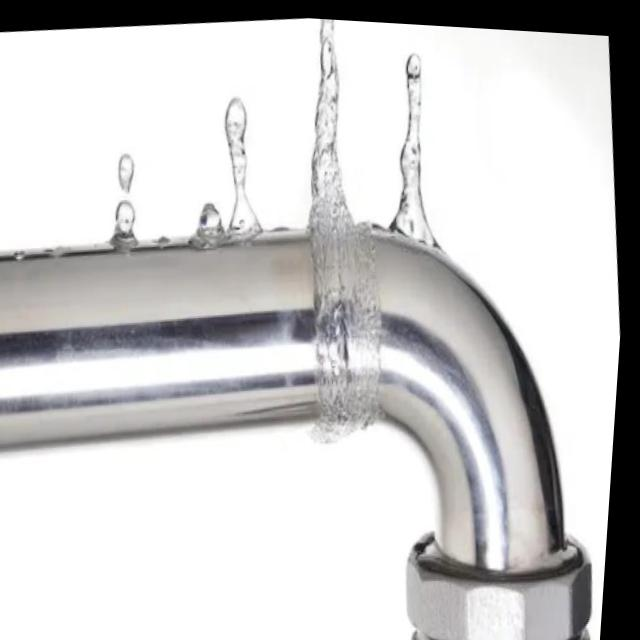leak: (101, 20, 540, 468)
